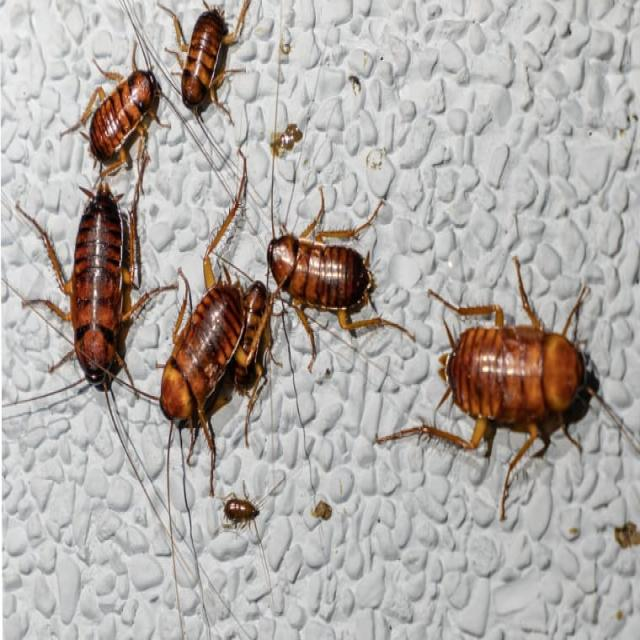Cockroach: (412, 280, 592, 455), (36, 175, 160, 404), (255, 190, 402, 338), (157, 267, 259, 461), (57, 43, 168, 178), (157, 2, 255, 122)
